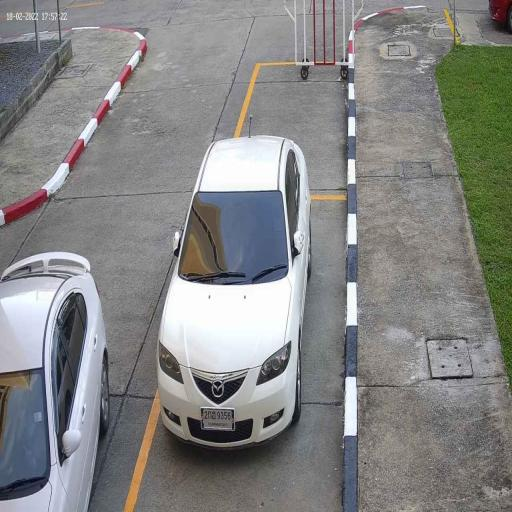car: (157, 135, 312, 450), (0, 250, 111, 512)
